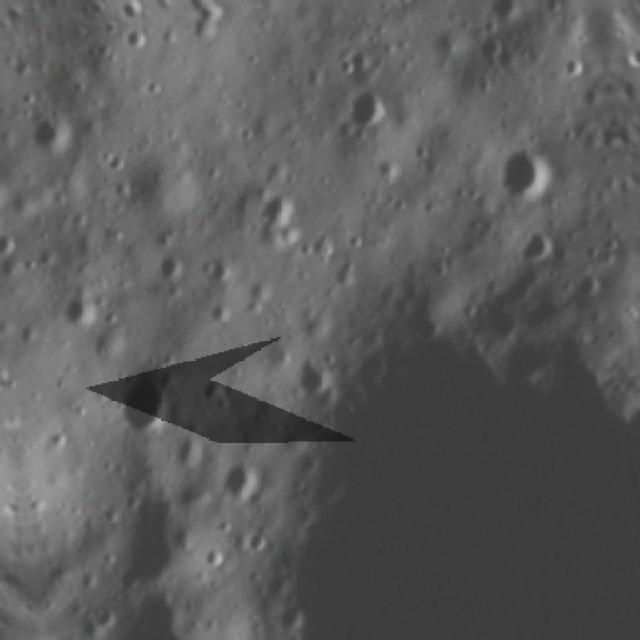crater: (238, 271, 640, 640), (114, 140, 206, 234), (106, 360, 188, 451), (109, 580, 228, 640), (484, 132, 564, 212), (243, 181, 309, 248), (337, 73, 400, 136), (156, 420, 218, 482), (218, 444, 273, 508), (22, 102, 78, 163), (86, 314, 140, 368), (290, 349, 338, 405), (332, 34, 382, 86), (511, 222, 558, 270), (59, 283, 103, 334), (235, 267, 280, 313), (195, 246, 239, 292), (147, 243, 191, 289), (474, 0, 537, 32), (81, 598, 128, 640), (195, 367, 239, 410), (240, 518, 282, 562), (366, 148, 406, 194), (488, 33, 523, 79), (0, 162, 26, 222), (191, 540, 227, 577), (118, 22, 154, 58), (553, 50, 585, 88), (575, 270, 607, 302), (197, 9, 237, 31), (0, 231, 23, 264), (58, 28, 100, 46), (344, 229, 368, 256), (624, 395, 640, 435), (390, 0, 425, 17), (28, 33, 68, 47), (41, 620, 67, 640), (600, 74, 612, 106), (638, 361, 640, 404), (424, 0, 464, 2)
